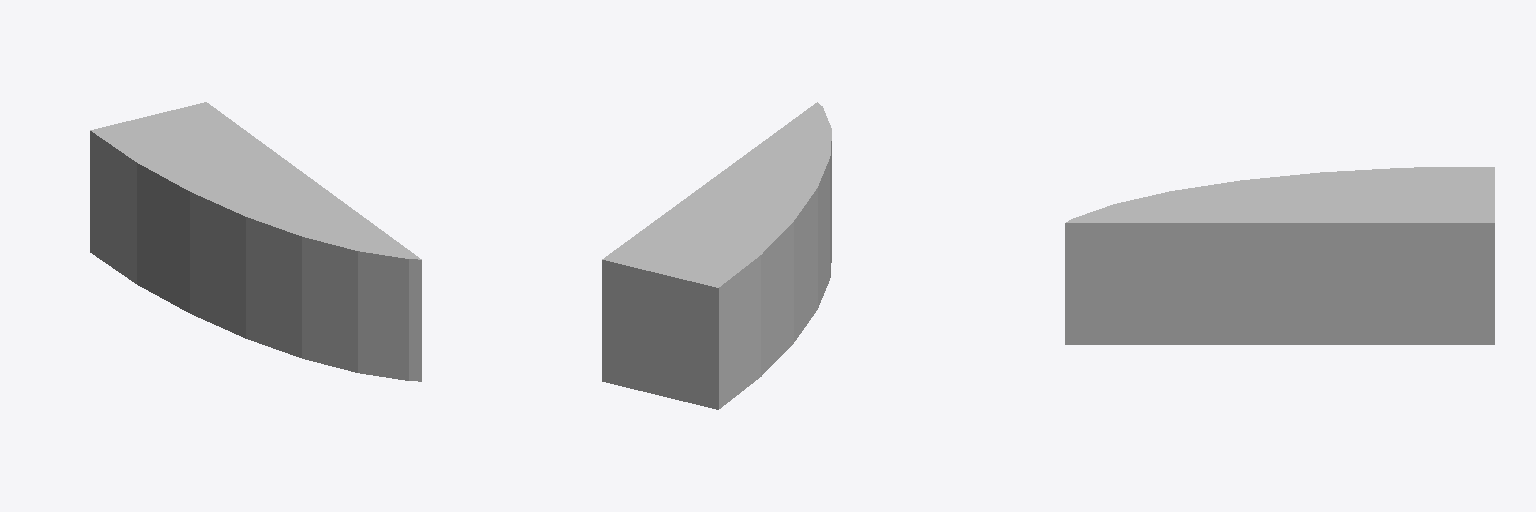
Rendered from sandstone_bridge_front_left_muddy_bottom.obj.
The picture shows the model from 3 angles: view 1: azimuth 30°, elevation 25°; view 2: azimuth 150°, elevation 25°; view 3: azimuth 270°, elevation 25°; orthographic projection.
Visible parts, largest first — view 1: side_front_left; view 2: side_front_left; view 3: side_front_left.
Boxes of the visible parts, box(x1,y1,x2,y2) form: side_front_left: box(90, 102, 421, 381); side_front_left: box(602, 102, 831, 409); side_front_left: box(1065, 167, 1494, 344).
Bounding box in the file's own units: 1 × 1 × 3.2.